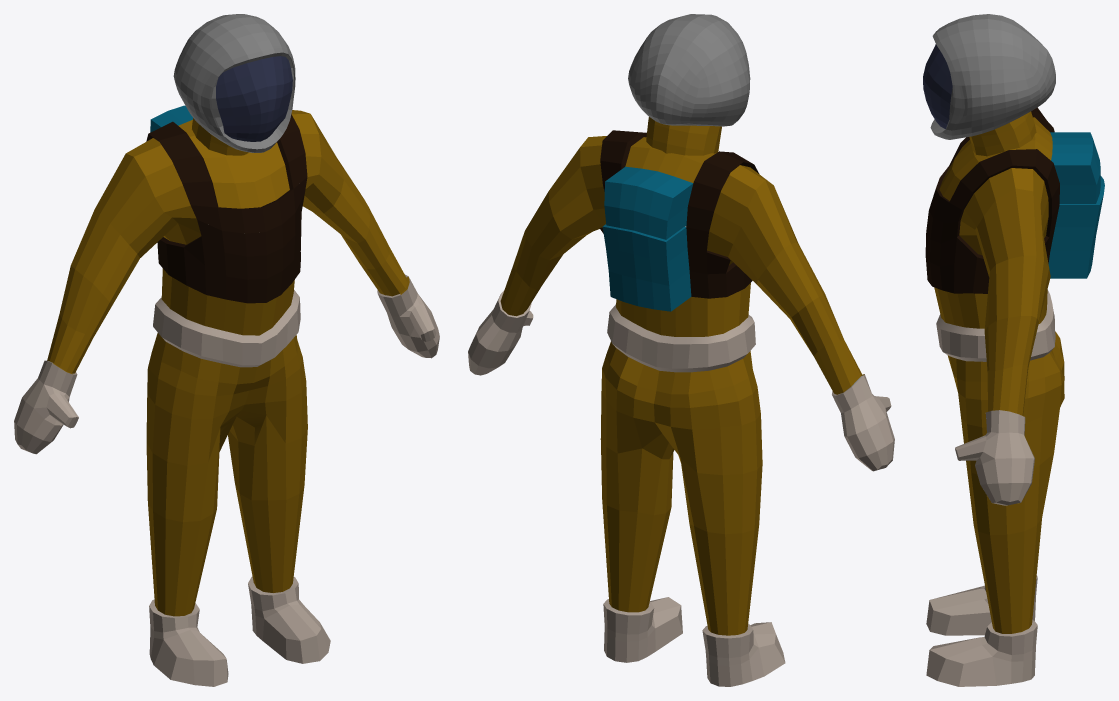
The model's file is astronauta_textura.fbx.
The picture shows the model from 3 angles, left to right: view 1: azimuth 30°, elevation 25°; view 2: azimuth 150°, elevation 25°; view 3: azimuth 270°, elevation 25°; orthographic projection.
Parts seen in each view (by area): view 1: pCube5; view 2: pCube5; view 3: pCube5.
Boxes of the visible parts, x1,y1,x2,y2 form: pCube5: [14, 14, 439, 686]; pCube5: [468, 14, 894, 686]; pCube5: [923, 14, 1104, 686].
Bounding box in the file's own units: 5.92 × 8.65 × 2.25.
